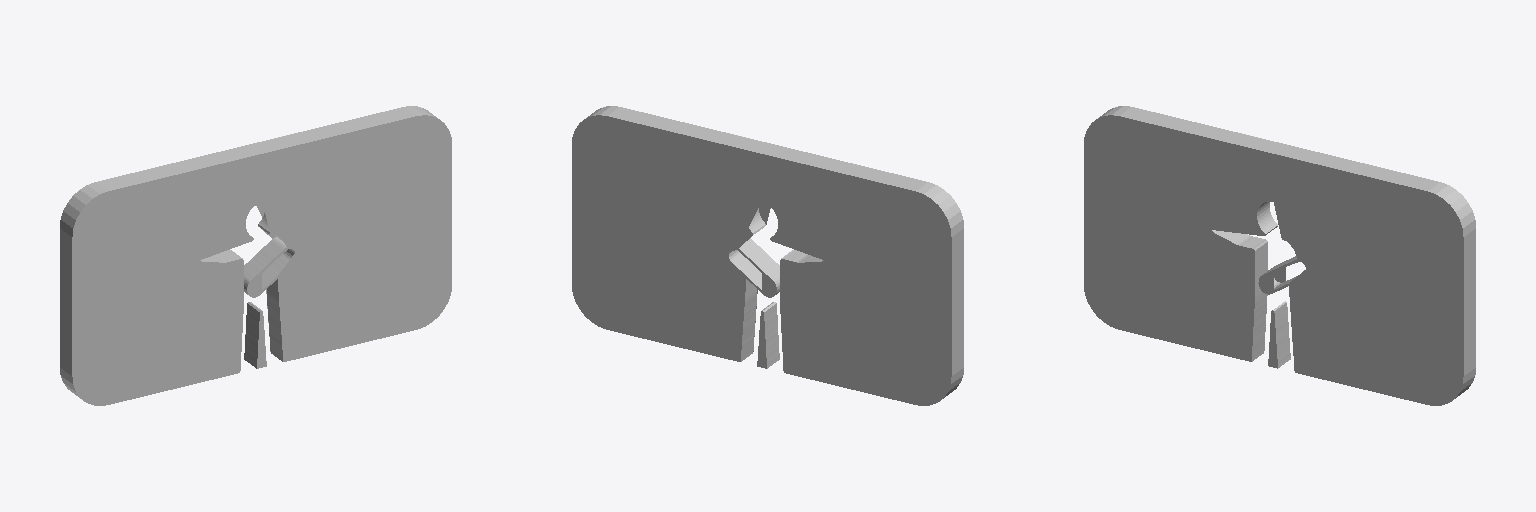
The picture shows the model from 3 angles: view 1: azimuth 30°, elevation 25°; view 2: azimuth 150°, elevation 25°; view 3: azimuth 330°, elevation 25°; orthographic projection.
Visible parts, largest first — view 1: POSE18; view 2: POSE18; view 3: POSE18.
Part boxes in pixels (x1,y1,x2,y2): POSE18: (60, 106, 451, 405); POSE18: (572, 106, 963, 405); POSE18: (1084, 106, 1475, 405).
Size of the model in its own units: 12 by 6.45 by 0.7.